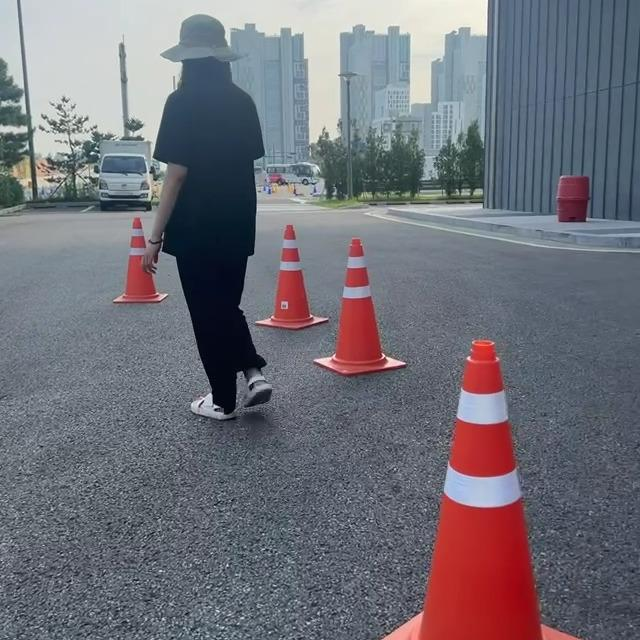fallen_object: (342, 297, 594, 628), (272, 217, 419, 362), (245, 205, 333, 363), (80, 192, 162, 349)
